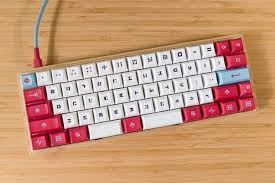keyboard: (4, 29, 264, 156)
